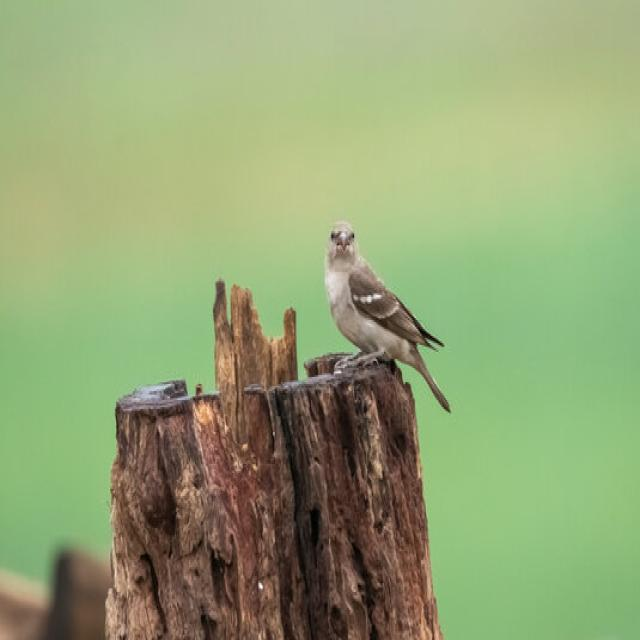bird: (316, 218, 452, 396)
